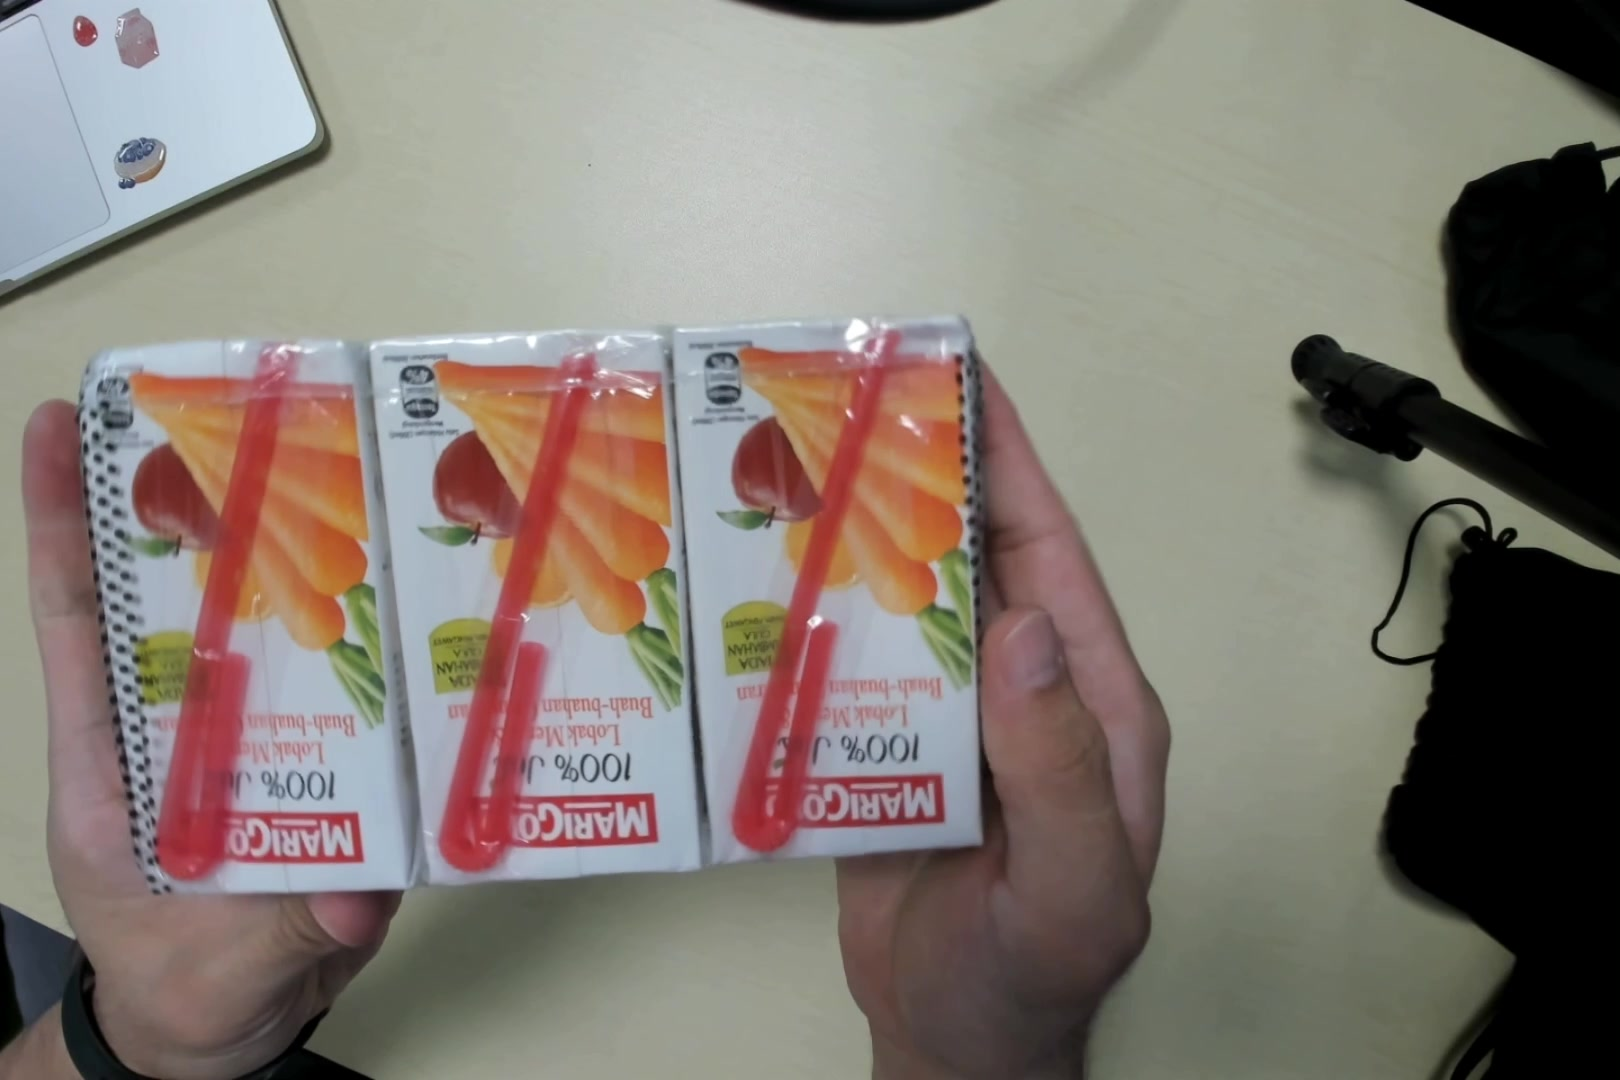FruitJuiceDrink_500-599g_Halal_NonHealthy: (78, 330, 982, 887)
